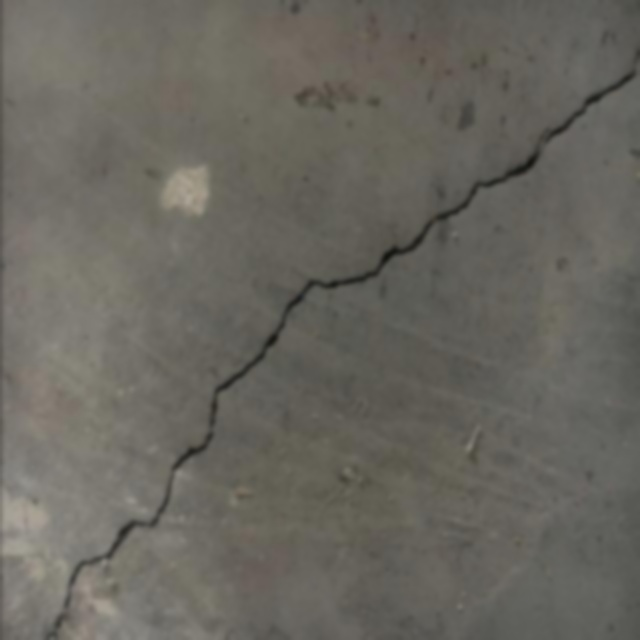SurfaceCrack: (1, 6, 640, 640)
